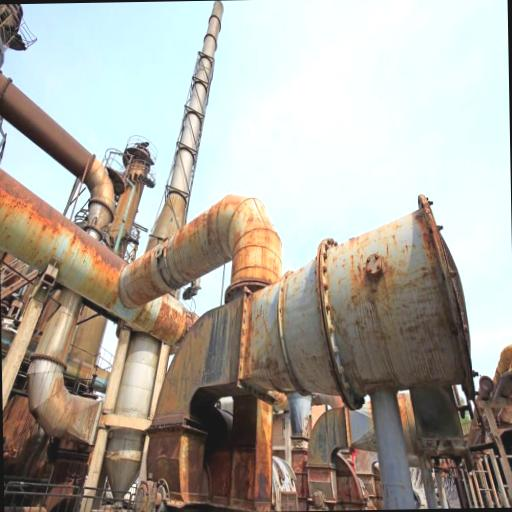segmentation: (62, 193, 284, 311), (11, 288, 106, 454), (409, 192, 491, 375), (145, 423, 210, 505), (229, 398, 272, 511), (128, 284, 197, 347), (0, 168, 51, 221)
